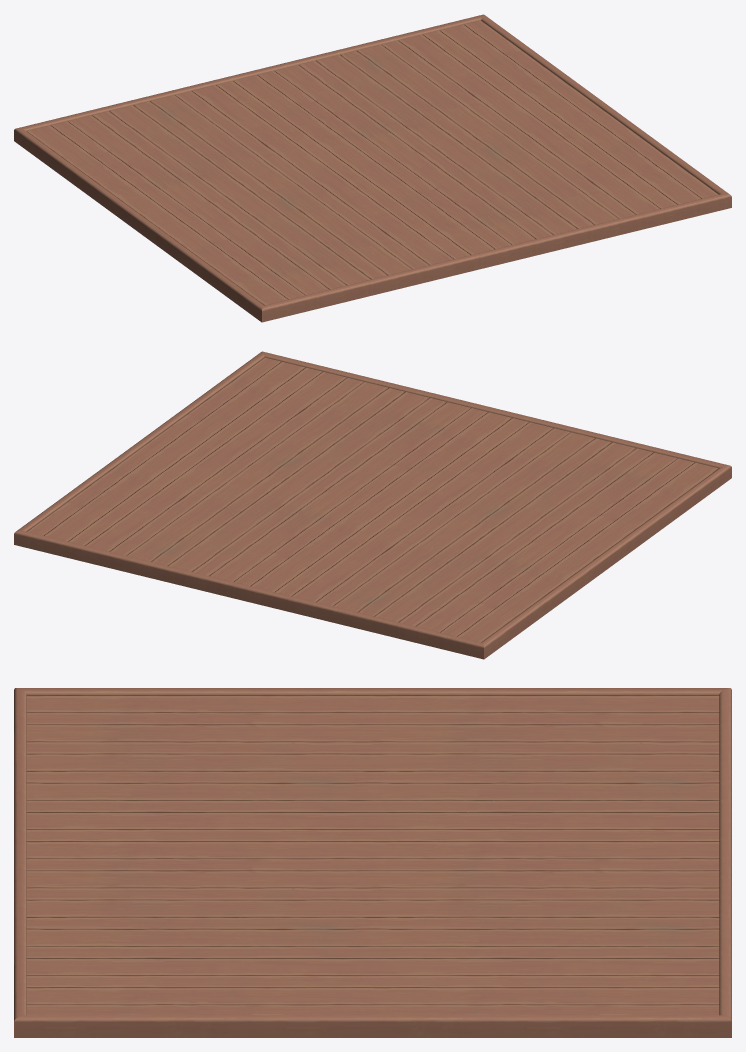
File: Pfb_Tent__4.fbx
3 views of the same model, one above another, from view 1: azimuth 30°, elevation 25°; view 2: azimuth 150°, elevation 25°; view 3: azimuth 270°, elevation 25° (orthographic). The views are drawn at different scales.
Parts seen in each view (by area): view 1: Mat_Tile_FloorWoodBlank02_3; view 2: Mat_Tile_FloorWoodBlank02_3; view 3: Mat_Tile_FloorWoodBlank02_3.
Part boxes in pixels (bbox=[...]): Mat_Tile_FloorWoodBlank02_3: bbox=[14, 14, 731, 322]; Mat_Tile_FloorWoodBlank02_3: bbox=[14, 351, 731, 659]; Mat_Tile_FloorWoodBlank02_3: bbox=[14, 688, 731, 1037].
Bounding box in the file's own units: 9 × 0.2372 × 8.22.
1 material, 1 textured.
